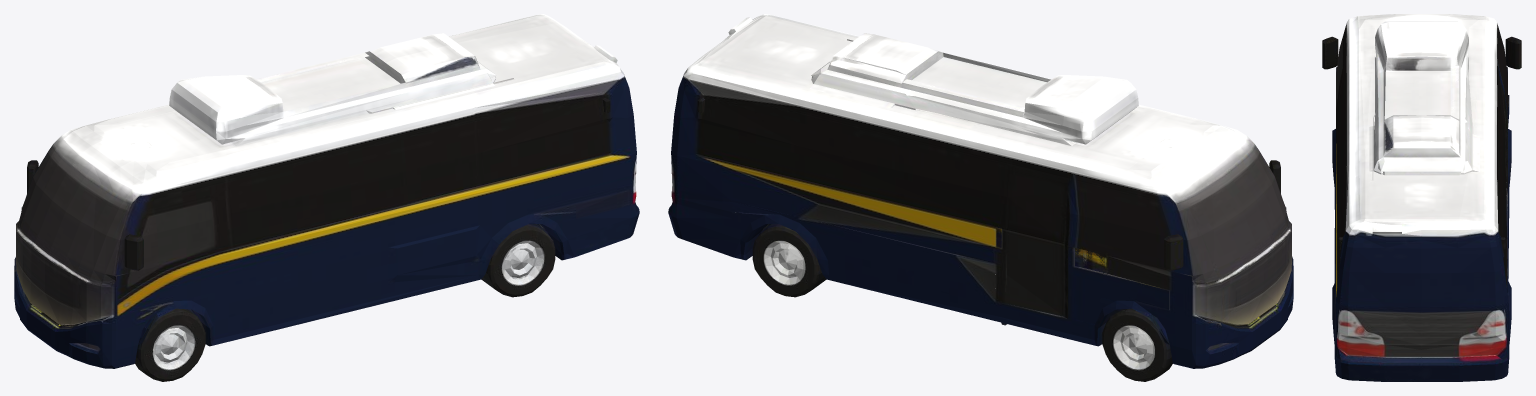
Rendered from bus2.glb.
The picture shows the model from 3 angles, left to right: view 1: azimuth 30°, elevation 25°; view 2: azimuth 150°, elevation 25°; view 3: azimuth 270°, elevation 25°; orthographic projection. The views are drawn at different scales.
Visible parts, largest first — view 1: mesh_node; view 2: mesh_node; view 3: mesh_node.
Part boxes in pixels (x1,y1,x2,y2): mesh_node: (14, 14, 639, 381); mesh_node: (668, 14, 1293, 381); mesh_node: (1322, 14, 1521, 381).
Size of the model in its own units: 1.89 by 0.7593 by 0.638.
Materials: 1 (1 with a texture image).
